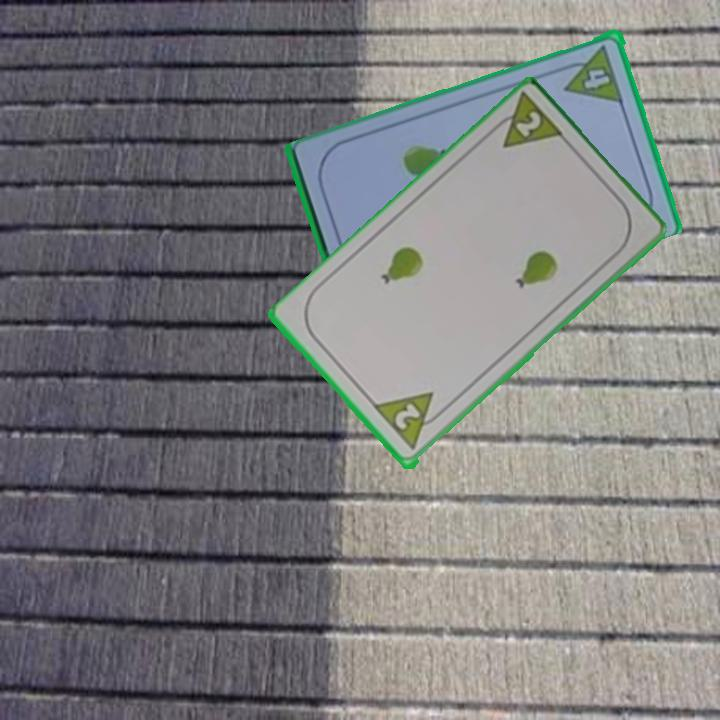2p: (485, 90, 568, 153), (371, 388, 450, 454)
4p: (556, 41, 626, 105)
